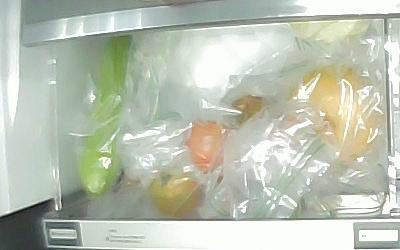cabbage_vinyl: (282, 20, 376, 49)
pear_vinyl: (283, 63, 383, 163)
tomato_vinyl: (148, 166, 206, 221), (184, 119, 226, 171), (232, 93, 266, 128)
zucchini_vinyl: (76, 36, 131, 195)
